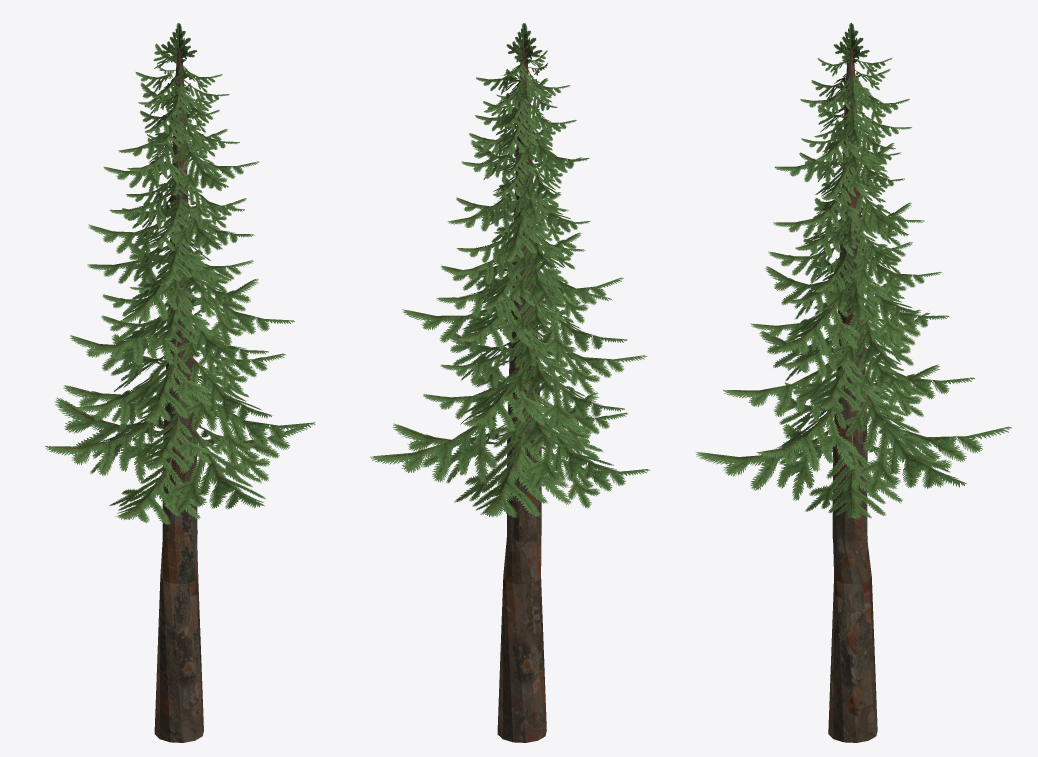
The model's file is pineTree4.fbx.
The picture shows the model from 3 angles, left to right: view 1: azimuth 30°, elevation 25°; view 2: azimuth 150°, elevation 25°; view 3: azimuth 270°, elevation 25°; orthographic projection.
Parts seen in each view (by area): view 1: pineTree.001; view 2: pineTree.001; view 3: pineTree.001.
Part boxes in pixels (x1,y1,x2,y2): pineTree.001: (45, 23, 315, 742); pineTree.001: (370, 23, 649, 742); pineTree.001: (695, 22, 1011, 742).
Bounding box in the file's own units: 646 × 1689 × 715.
Materials: 2 (2 with a texture image).
